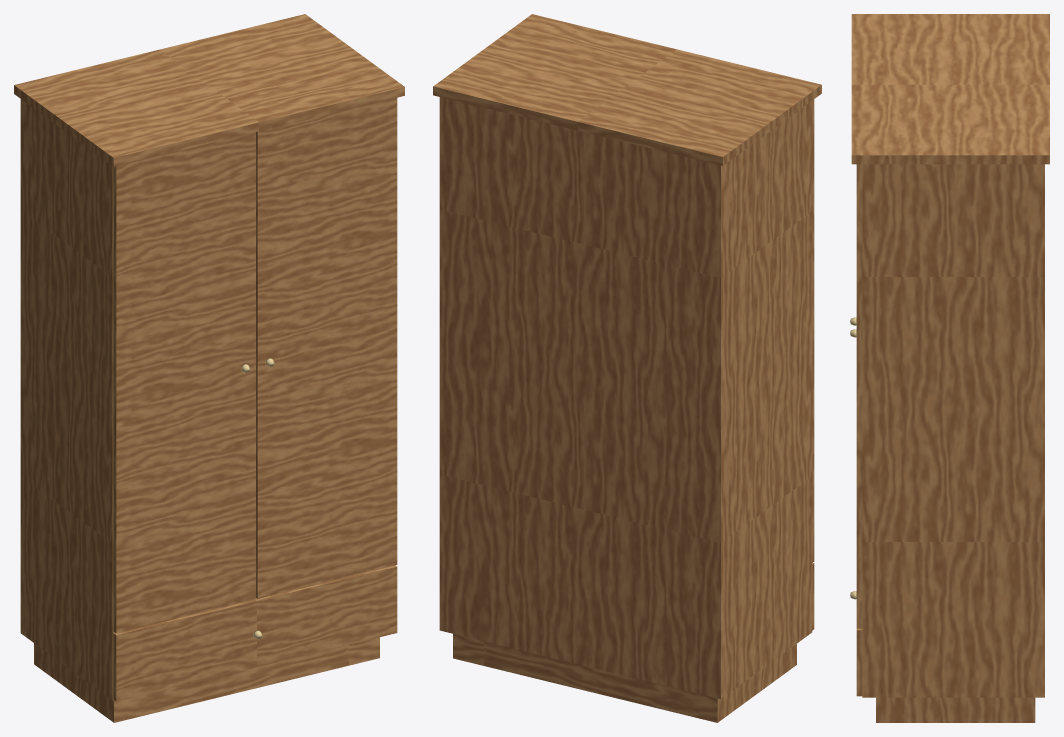
3 views of the same model, side by side, from view 1: azimuth 30°, elevation 25°; view 2: azimuth 150°, elevation 25°; view 3: azimuth 270°, elevation 25° (orthographic).
Parts seen in each view (by area): view 1: Wardrobe, two doors; view 2: Wardrobe, two doors; view 3: Wardrobe, two doors.
Boxes of the visible parts, box(x1,y1,x2,y2) form: Wardrobe, two doors: box(14, 14, 404, 722); Wardrobe, two doors: box(433, 14, 821, 722); Wardrobe, two doors: box(850, 14, 1049, 722).
Size of the model in its own units: 1.03 by 1.95 by 0.615.
2 materials, 1 textured.
